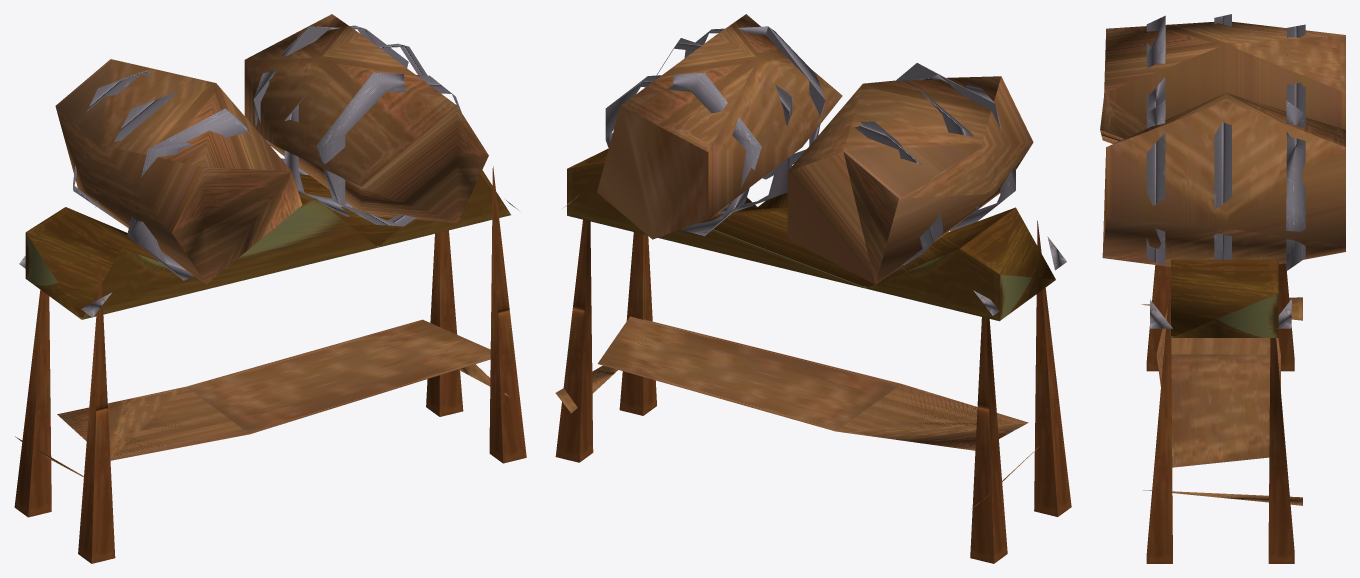
The model's file is Barrel_Holder.low.gltf.
3 renders of one model, left to right at view 1: azimuth 30°, elevation 25°; view 2: azimuth 150°, elevation 25°; view 3: azimuth 270°, elevation 25°, orthographic. The views are drawn at different scales.
Visible parts, largest first — view 1: Barrel_Holder; view 2: Barrel_Holder; view 3: Barrel_Holder.
Boxes of the visible parts, x1,y1,x2,y2 form: Barrel_Holder: (14,14,526,563); Barrel_Holder: (555,14,1071,563); Barrel_Holder: (1100,14,1345,563).
Bounding box in the file's own units: 1.36 × 1.26 × 0.6915.
2 materials, 2 textured.
